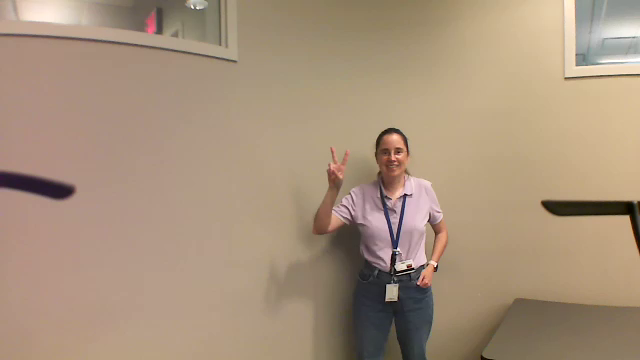peace: (323, 142, 354, 185)
